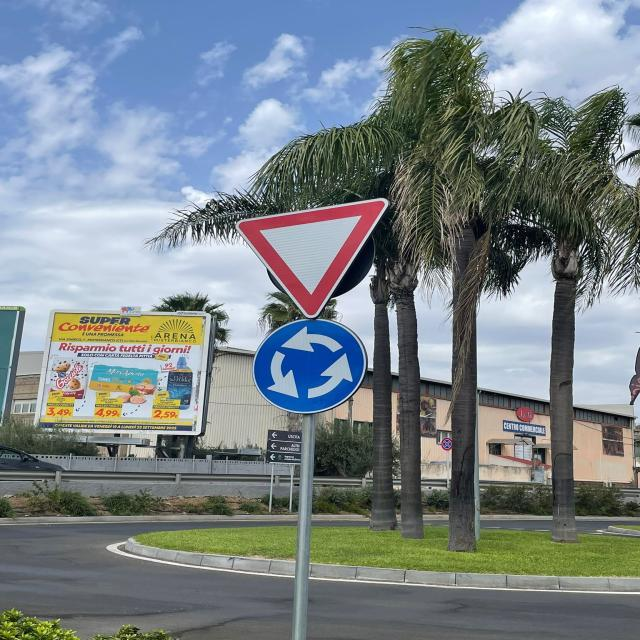prio_give_way: (235, 197, 391, 321)
